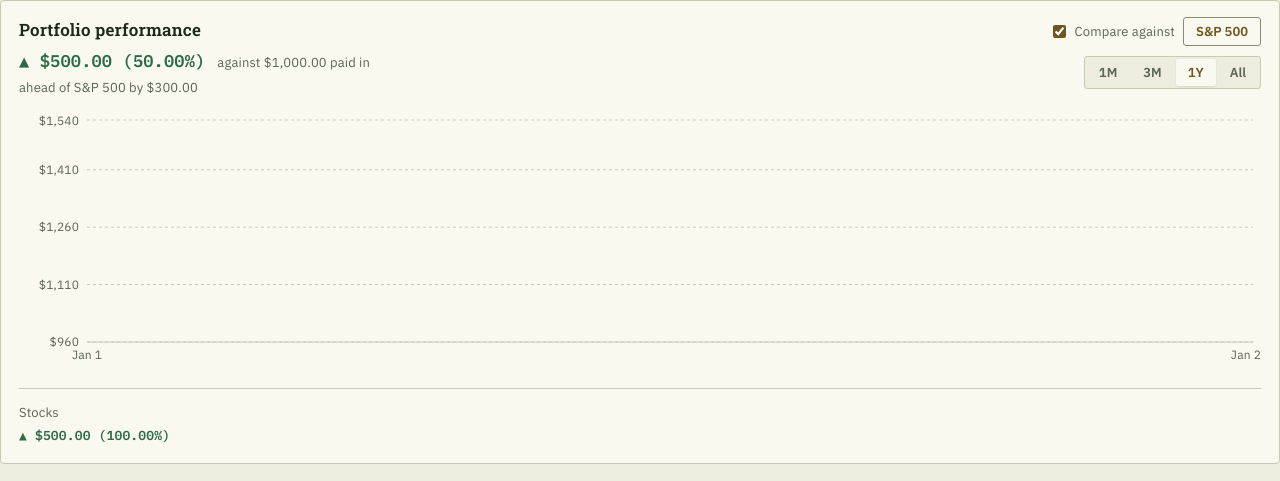
Test case: PortfolioPerformance › drops the comparison when the toggle is switched off, without refetching
Expected: the text "ahead of S&P 500 by $300.00" is shown, [19,79,198,96]
Click the checkbox labelled "Compare against" at (1059, 32), box [1053,25,1066,38]
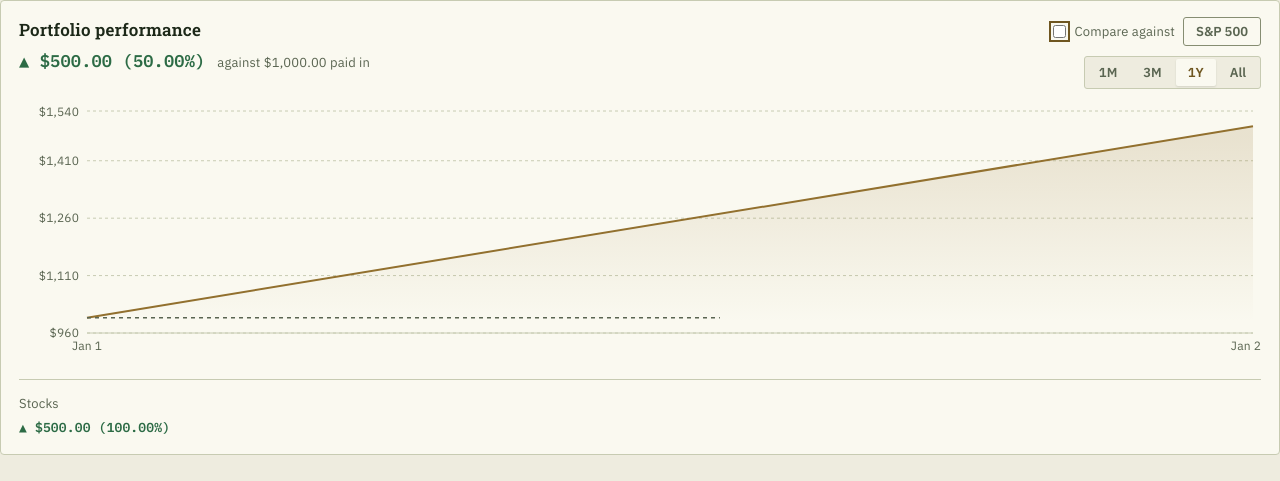
Expected: the text "ahead of S&P 500 by $300.00" is gone
